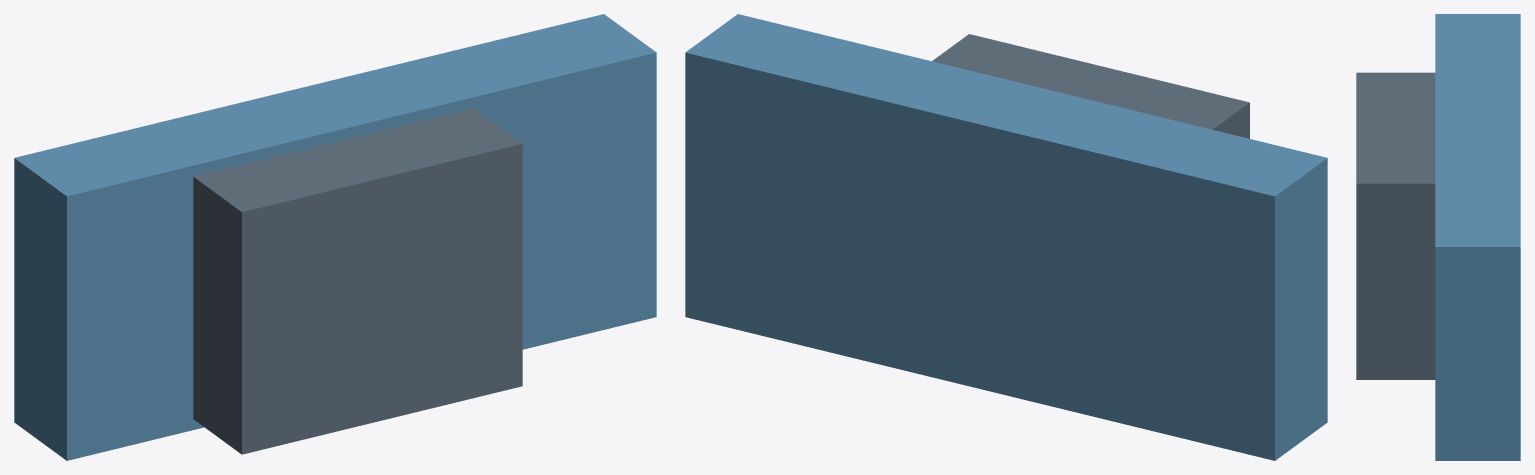
The model's file is vehicle.glb.
3 renders of one model, left to right at view 1: azimuth 30°, elevation 25°; view 2: azimuth 150°, elevation 25°; view 3: azimuth 270°, elevation 25°, orthographic. The views are drawn at different scales.
Parts seen in each view (by area): view 1: geometry_0; view 2: geometry_0; view 3: geometry_0.
Boxes of the visible parts, x1=… form: geometry_0: x1=14, y1=14, x2=656, y2=460; geometry_0: x1=685, y1=14, x2=1327, y2=460; geometry_0: x1=1356, y1=14, x2=1520, y2=460.
Size of the model in its own units: 4.2 by 1.8 by 1.25.
